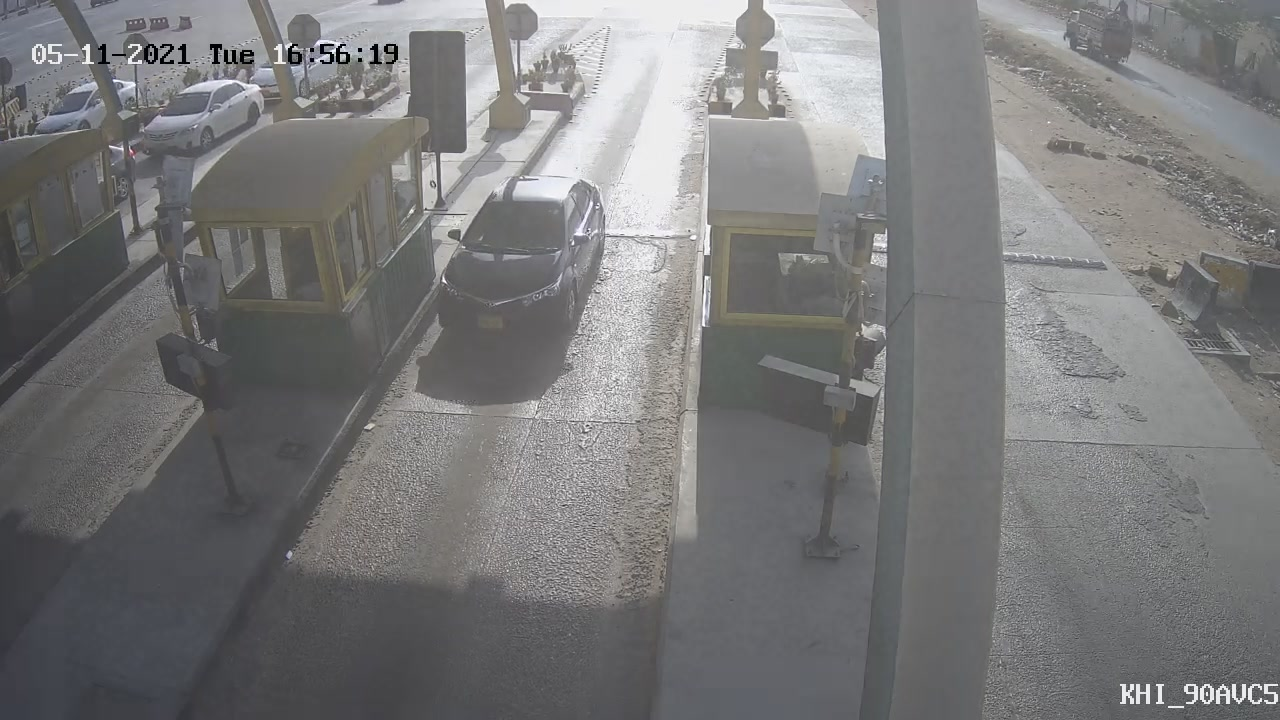F1: (413, 152, 625, 364)
